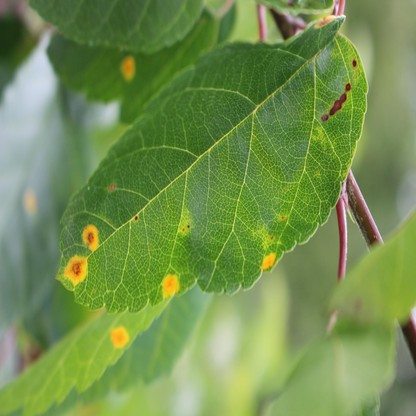frogeye_leaf_spot: (320, 84, 350, 121), (351, 59, 357, 68)
rust: (64, 255, 88, 284), (21, 186, 38, 218), (82, 224, 100, 251), (120, 54, 135, 82), (110, 326, 129, 347), (163, 274, 179, 297), (315, 14, 335, 28), (260, 254, 275, 270), (108, 182, 116, 191)
